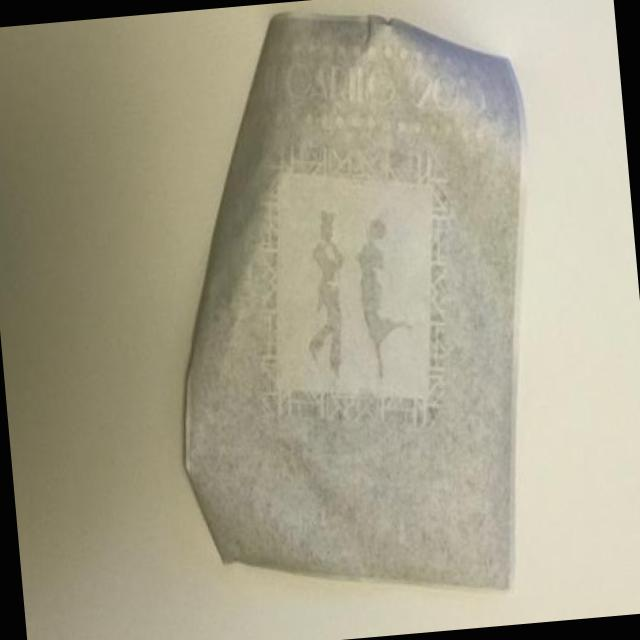paper: (147, 44, 566, 588)
